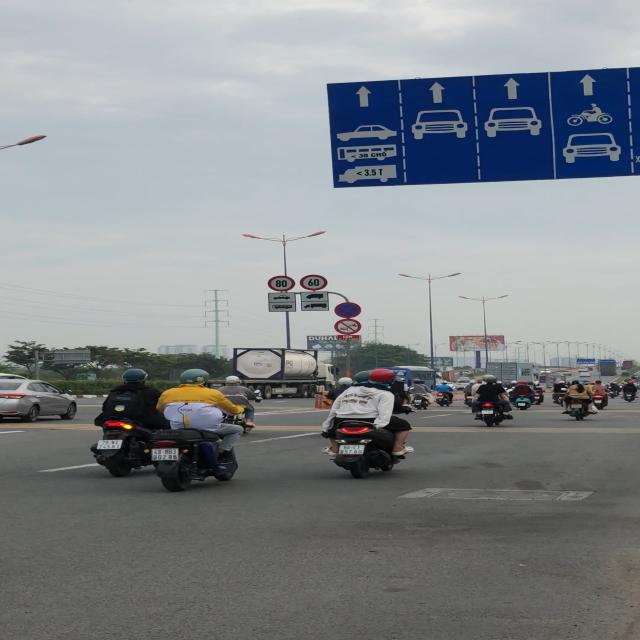Bien bao cam dung xe va do xe: (335, 302, 363, 318)
Bien bao toc do toi da cho phep: (267, 275, 296, 292), (298, 274, 328, 290)
